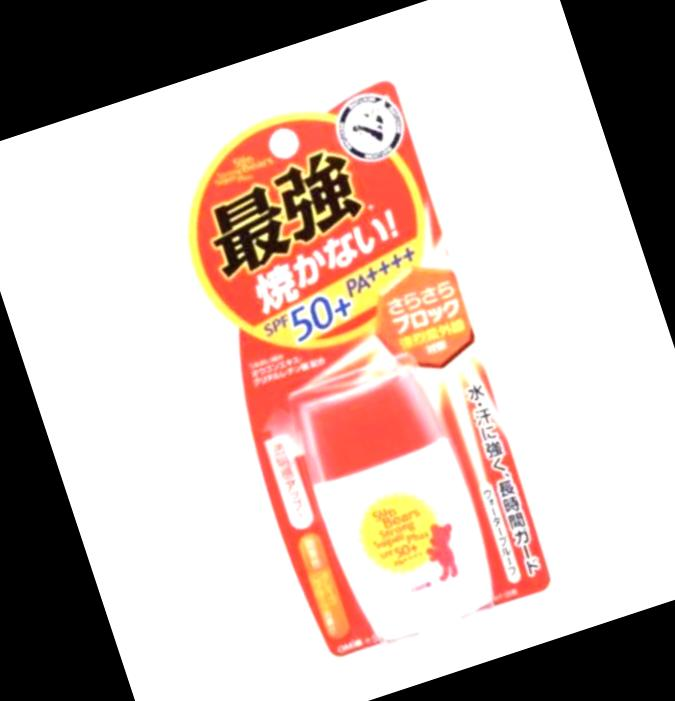cosmetic: (288, 361, 508, 656)
